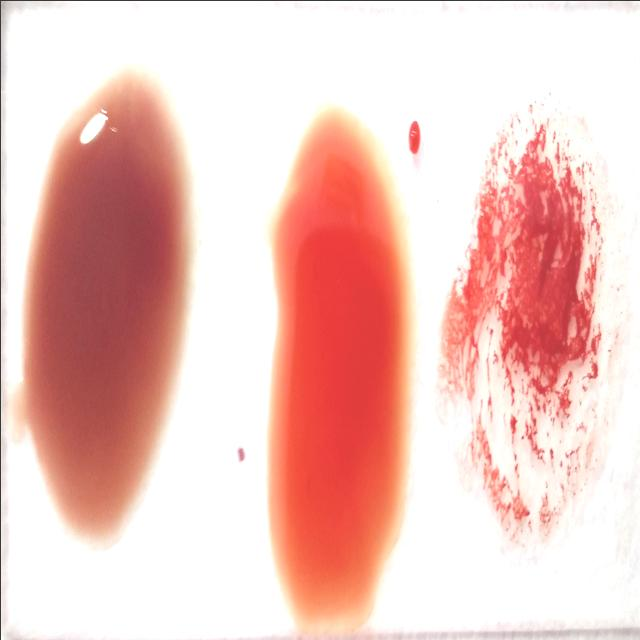D: (458, 97, 612, 534)
